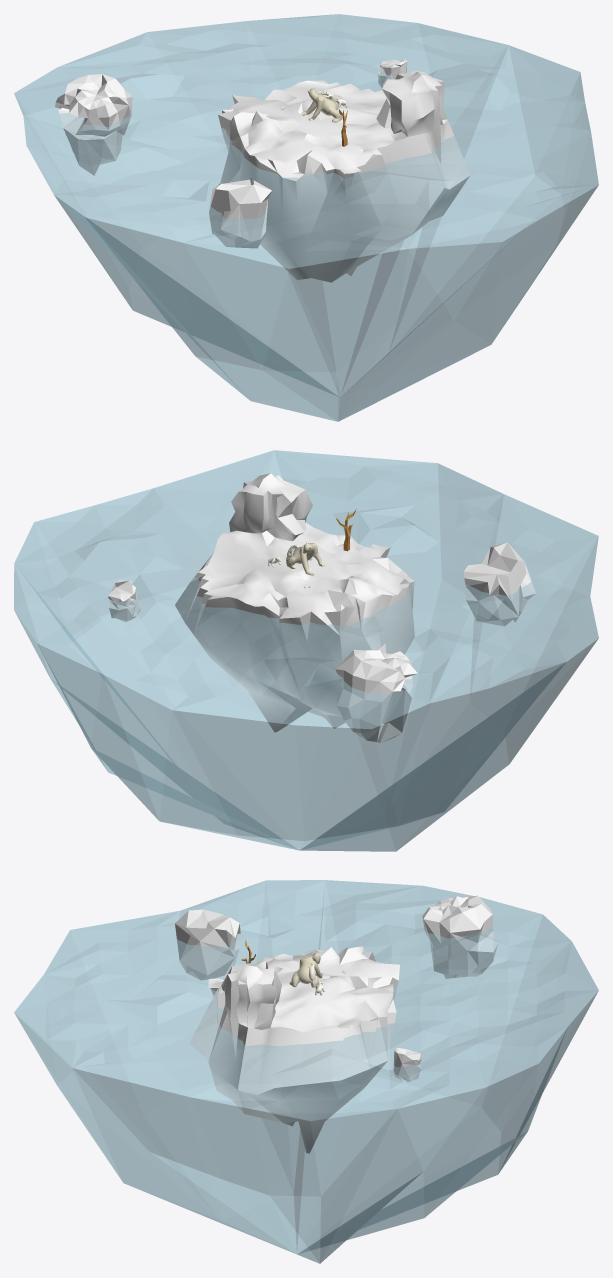
Rendered from water.glb.
3 views of the same model, one above another, from view 1: azimuth 30°, elevation 25°; view 2: azimuth 150°, elevation 25°; view 3: azimuth 270°, elevation 25° (orthographic). The views are drawn at different scales.
Parts seen in each view (by area): view 1: Object_2, Object_3, Object_6, Object_4; view 2: Object_2, Object_3, Object_6, Object_4; view 3: Object_2, Object_3, Object_6, Object_4.
Part boxes in pixels (box(x1,y1,x2,y2)): Object_2: box(14, 14, 598, 421); Object_3: box(218, 71, 470, 282); Object_6: box(55, 59, 407, 248); Object_4: box(301, 88, 342, 122); Object_2: box(14, 450, 598, 851); Object_3: box(175, 473, 414, 732); Object_6: box(108, 542, 535, 742); Object_4: box(286, 542, 325, 575); Object_2: box(14, 880, 598, 1263); Object_3: box(189, 946, 399, 1153); Object_6: box(175, 895, 497, 1082); Object_4: box(289, 953, 322, 987).
Size of the model in its own units: 52.96 by 32.07 by 53.96.
